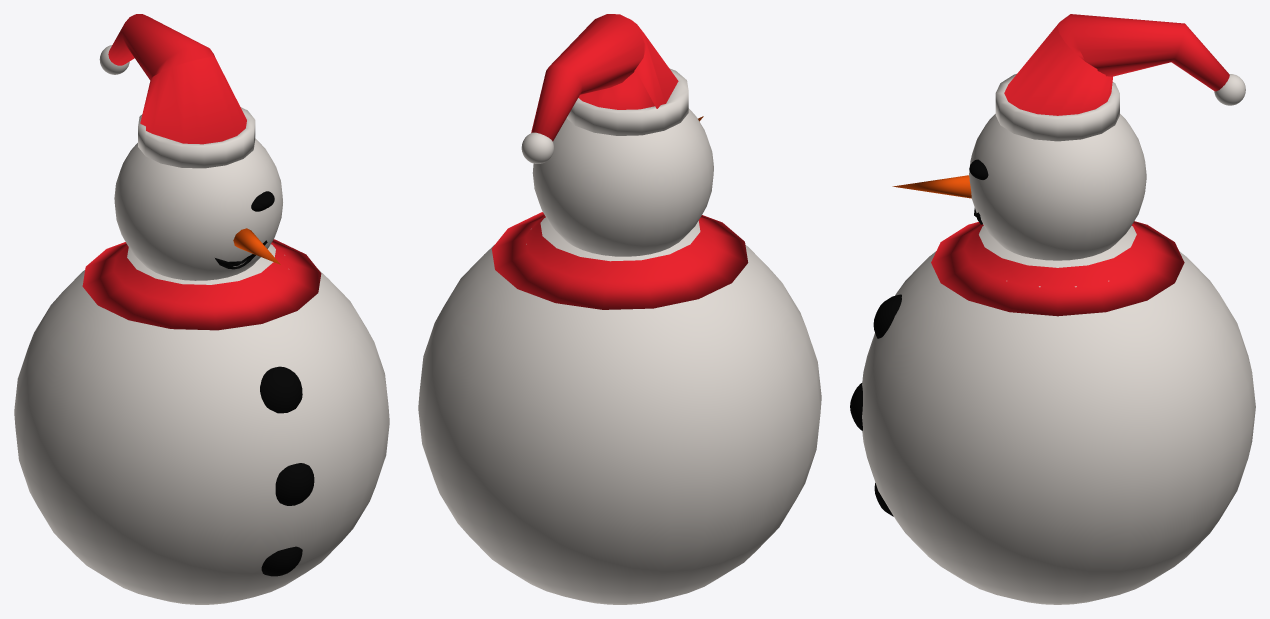
File: snow.glb
3 renders of one model, left to right at view 1: azimuth 30°, elevation 25°; view 2: azimuth 150°, elevation 25°; view 3: azimuth 270°, elevation 25°, orthographic. The views are drawn at different scales.
Visible parts, largest first — view 1: snowman; view 2: snowman; view 3: snowman.
Boxes of the visible parts, left/top/right/bottom form: snowman: left=14, top=14, right=389, bottom=604; snowman: left=418, top=14, right=821, bottom=604; snowman: left=850, top=14, right=1255, bottom=604.
Bounding box in the file's own units: 2 × 3.15 × 2.05.
